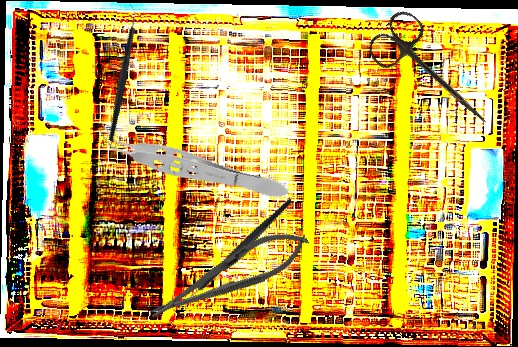Chopper: (160, 197, 317, 314), (63, 2, 179, 143)
Iris Scissors: (362, 5, 508, 143)
Needle Holder: (141, 218, 316, 333)
Tissue Forceps: (91, 121, 293, 208)
